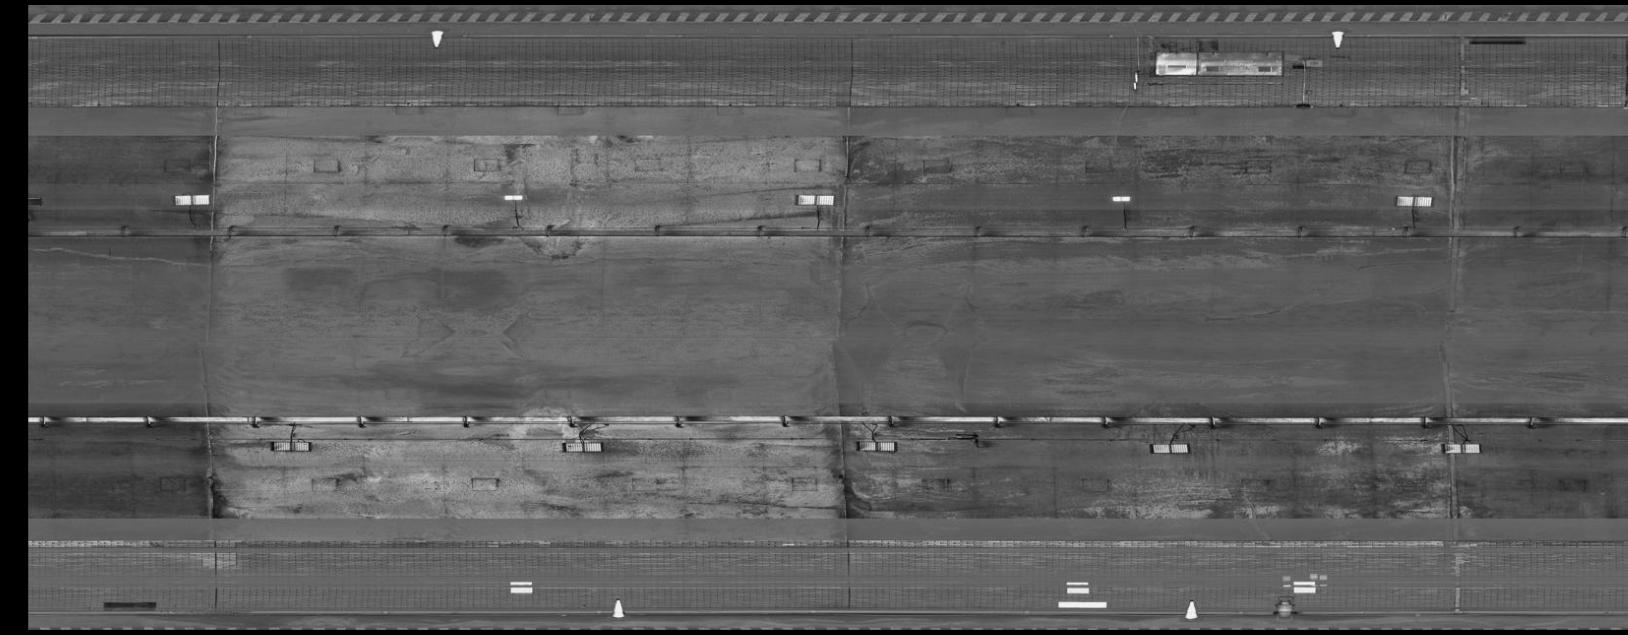light: (265, 437, 315, 455), (555, 438, 605, 457), (850, 437, 900, 455), (1144, 439, 1194, 458), (1437, 439, 1485, 455), (167, 190, 212, 206), (1389, 193, 1436, 209), (793, 191, 837, 208), (498, 193, 530, 202), (1106, 194, 1137, 203)
